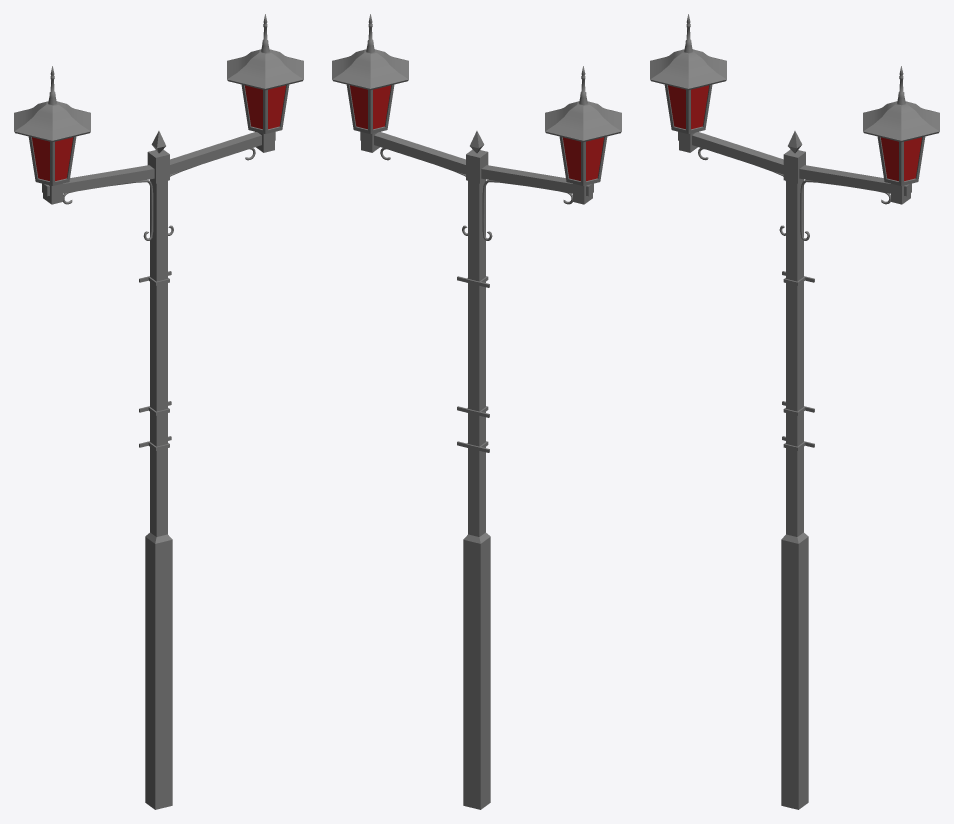
File: SM_lamp_street_d_01.fbx
3 renders of one model, left to right at view 1: azimuth 30°, elevation 25°; view 2: azimuth 150°, elevation 25°; view 3: azimuth 330°, elevation 25°, orthographic.
Visible parts, largest first — view 1: Box54932426; view 2: Box54932426; view 3: Box54932426.
Boxes of the visible parts, x1,y1,x2,y2 form: Box54932426: (14,14,303,809); Box54932426: (332,14,621,809); Box54932426: (650,14,939,809).
Bounding box in the file's own units: 89.29 × 225 × 20.5.
